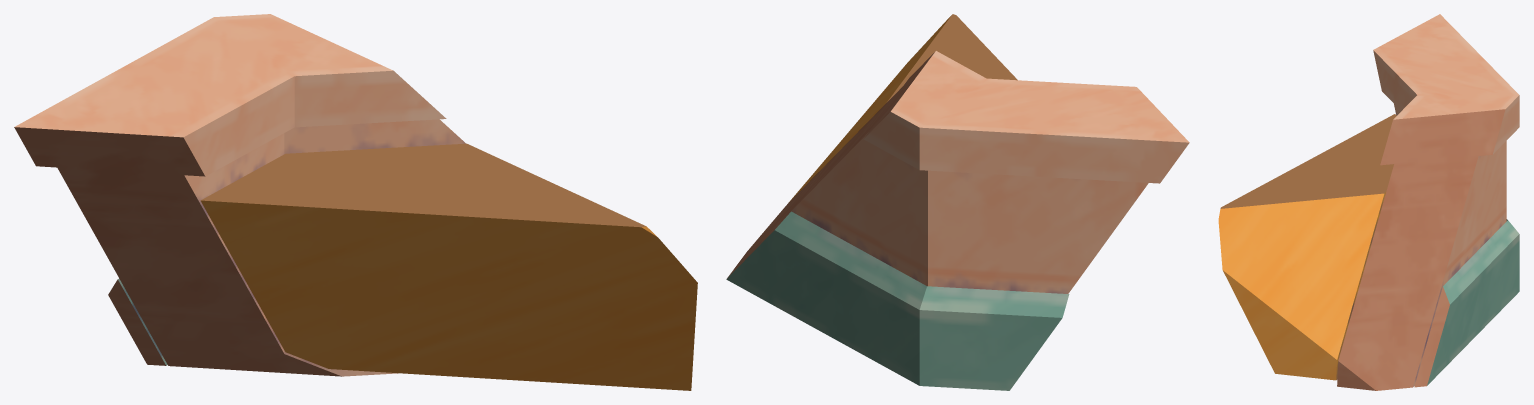
The model's file is vat_saffron_s00.fbx.
3 renders of one model, left to right at view 1: azimuth 30°, elevation 25°; view 2: azimuth 150°, elevation 25°; view 3: azimuth 270°, elevation 25°, orthographic. The views are drawn at different scales.
Visible parts, largest first — view 1: vat_saffron_s00; view 2: vat_saffron_s00; view 3: vat_saffron_s00.
Boxes of the visible parts, <box> form: vat_saffron_s00: <box>14,14,697,390</box>; vat_saffron_s00: <box>726,14,1189,390</box>; vat_saffron_s00: <box>1218,14,1519,390</box>.
Bounding box in the file's own units: 3.34 × 1.7 × 2.36.
